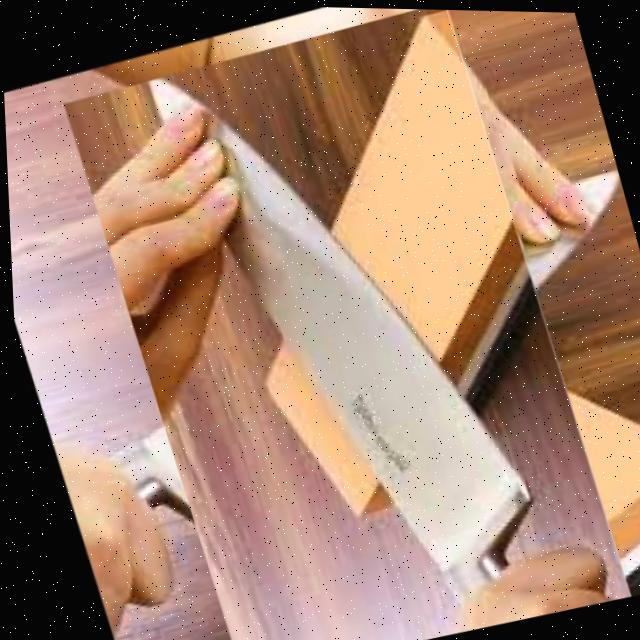knife: (143, 20, 558, 640)
